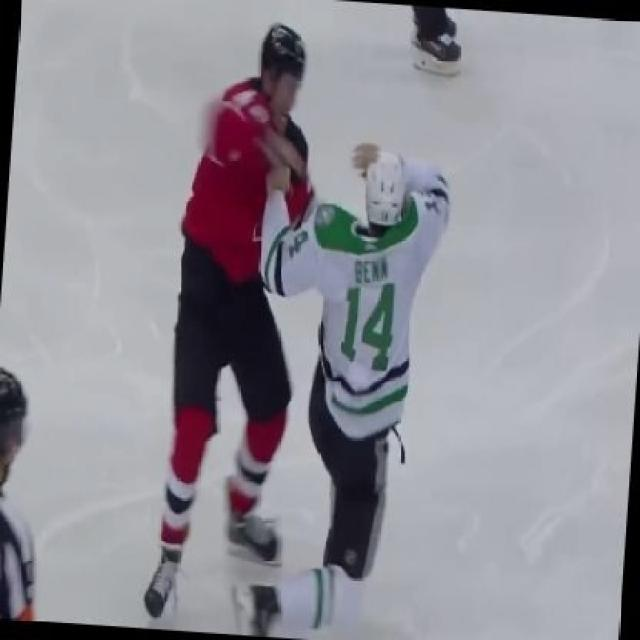fight: (147, 25, 450, 640)
